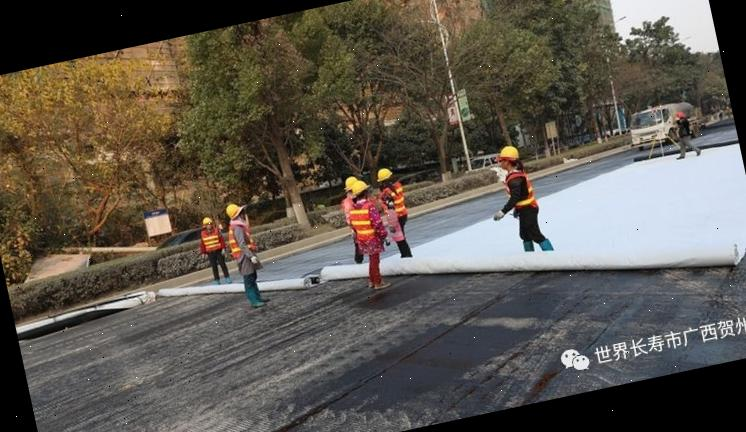helmet: (342, 172, 370, 196), (495, 143, 522, 162), (373, 165, 397, 182), (225, 201, 244, 220), (570, 352, 590, 370), (200, 216, 215, 225)
wear: (381, 184, 410, 226), (227, 222, 256, 259), (350, 202, 378, 240), (200, 228, 223, 253)
